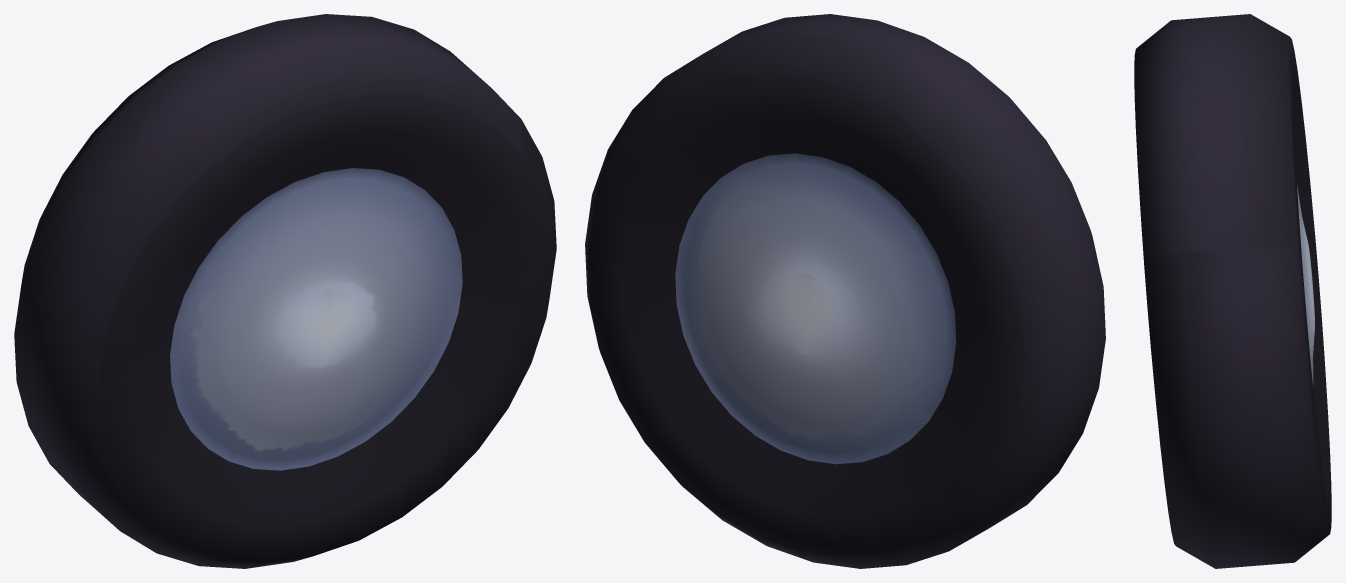
File: rodadireita.fbx
3 views of the same model, side by side, from view 1: azimuth 30°, elevation 25°; view 2: azimuth 150°, elevation 25°; view 3: azimuth 270°, elevation 25° (orthographic). The views are drawn at different scales.
Parts seen in each view (by area): view 1: fe.002; view 2: fe.002; view 3: fe.002.
Boxes of the visible parts, x1,y1,x2,y2 form: fe.002: (14, 14, 556, 568); fe.002: (585, 14, 1105, 568); fe.002: (1134, 14, 1331, 568).
Bounding box in the file's own units: 37.52 × 37.85 × 13.45.
